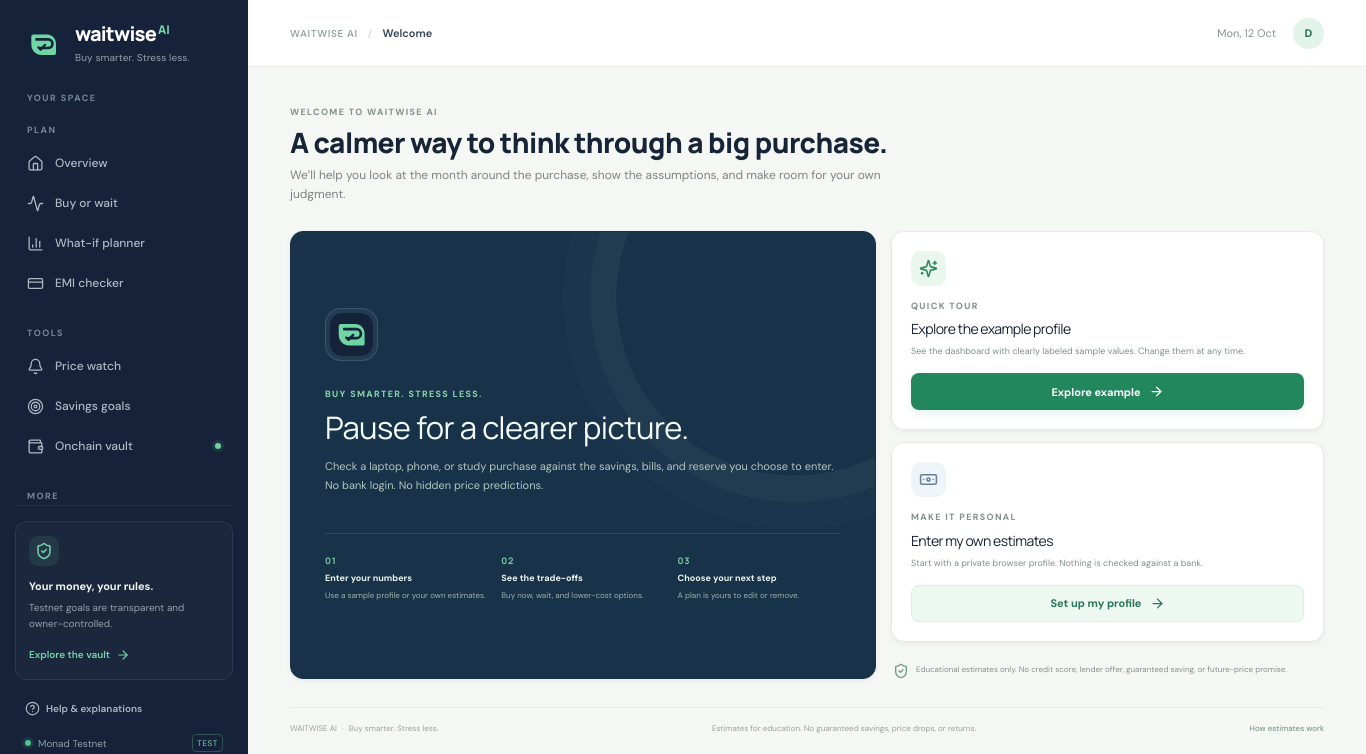
Test case: purchase and recommendation UI › updates what-if alternatives when values change
Click the button "What-if planner": [124, 243] box [15,223,233,263]
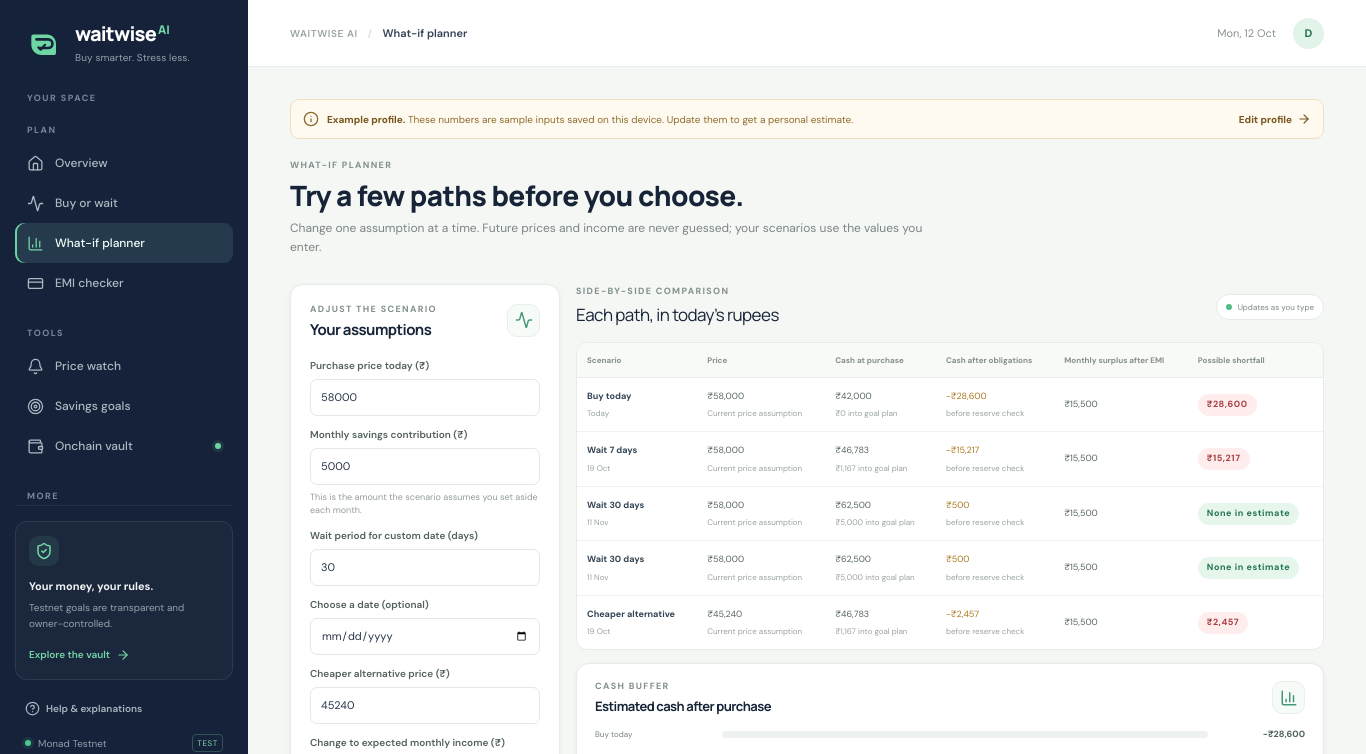
Replace the text in the number field labelled "Cheaper alternative price (₹)" with "10000": [425, 705] box [310,687,540,724]
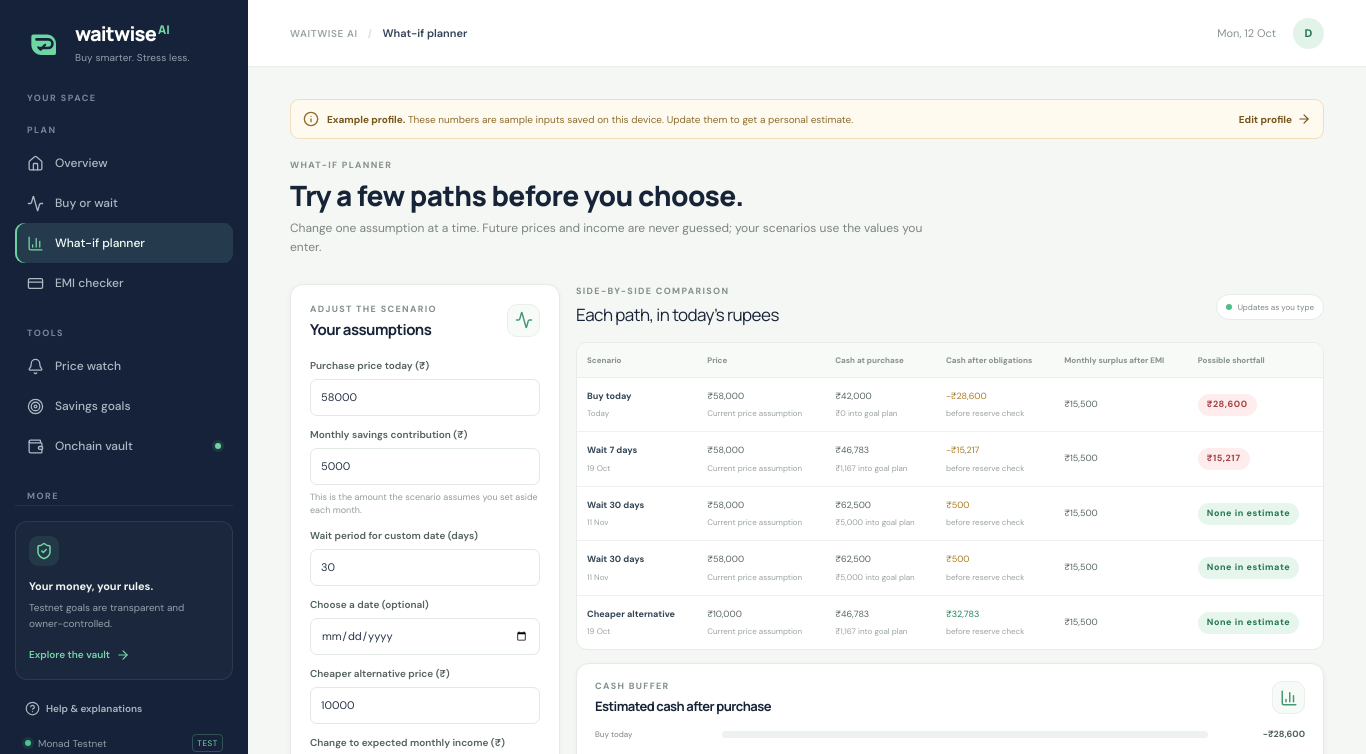
Expected: the text "Cheaper alternative price (₹)" is shown, [310,667,450,680]
Expected: the text "₹10,000" is shown, [707,608,742,620]
